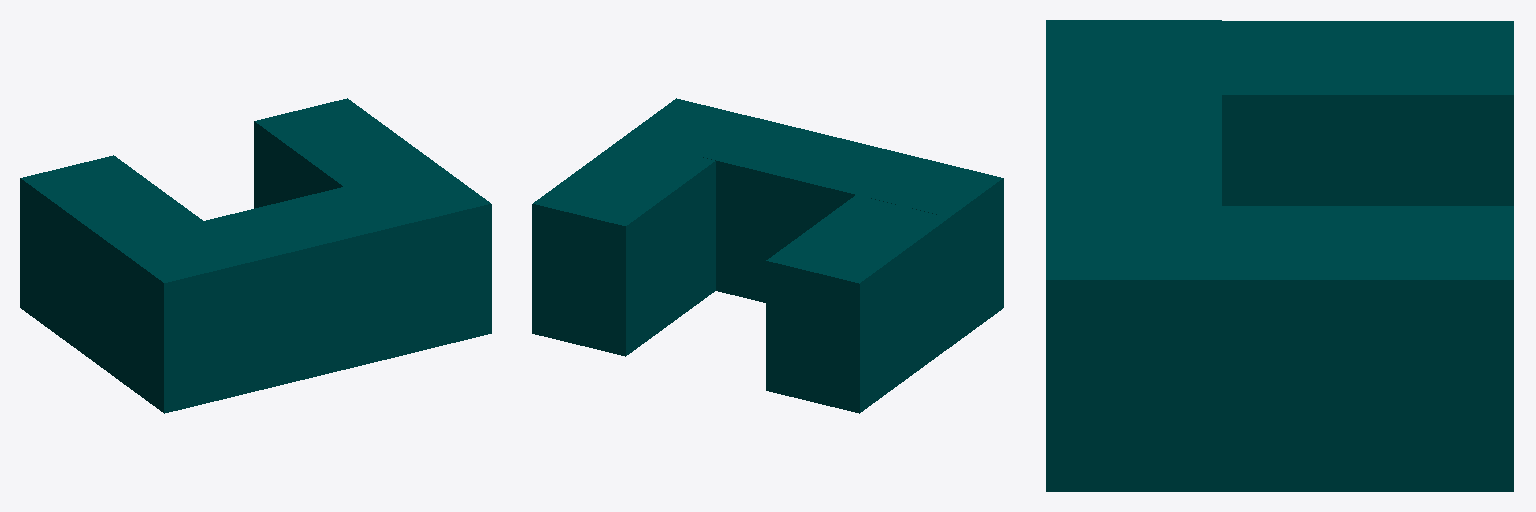
The robot description file, URDF, robot "ell.urdf":
<?xml version="0.0" ?>
<robot name="ell.urdf">
  <link name="baseLink">
    <contact>
      <lateral_friction value="0.3"/>
      <rolling_friction value="0.0001"/>
      <inertia_scaling value="3.0"/>
    </contact>
    <inertial>
      <origin rpy="0 0 0" xyz="0 0 0"/>
       <mass value=".1"/>
       <inertia ixx="1" ixy="0" ixz="0" iyy="1" iyz="0" izz="1"/>
    </inertial>

    <visual>
      <origin rpy="0 0 0" xyz="0.025 0 0"/>
      <geometry>
        <box size=".08 .03 .04"/>
      </geometry>
      <material name="red">
        <color rgba="0. 0.3412 0.3490 1"/>
      </material>
    </visual>
    <collision>
      <origin rpy="0 0 0" xyz="0.025 0 0"/>
      <geometry>
        <box size=".08 .03 .04"/>
      </geometry>
    </collision>

    <visual>
      <origin rpy="0 0 0" xyz="0 0.025 0"/>
      <geometry>
        <box size=".03 .08 .0399"/>
      </geometry>
      <material name="dark">
        <color rgba="0. 0.3412 0.3490 1"/>
      </material>
    </visual>
    <collision>
      <origin rpy="0 0 0" xyz="0 0.025 0"/>
      <geometry>
        <box size=".03 .08 .0399"/>
      </geometry>
    </collision>


    <visual>
      <origin rpy="0 0 0" xyz="0.075 0.025 0"/>
      <geometry>
        <box size=".03 .08 .0399"/>
      </geometry>
      <material name="dark">
        <color rgba="0. 0.3412 0.3490 1"/>
      </material>
    </visual>
    <collision>
      <origin rpy="0 0 0" xyz="0.075 0.025 0"/>
      <geometry>
        <box size=".03 .08 .0399"/>
      </geometry>
    </collision>


  </link>
</robot>

--- What the picture shows (computed from the rendered views, not written in the file) ---
Views: 3 orthographic renders of the robot side by side, from view 1: azimuth 30°, elevation 25°; view 2: azimuth 150°, elevation 25°; view 3: azimuth 270°, elevation 25°.
Model ell.urdf with 1 links and 0 joints (none), rooted at baseLink, posed all joints at 0.
Links seen in each view (by area): view 1: baseLink; view 2: baseLink; view 3: baseLink.
Link boxes in pixels (x1,y1,x2,y2): baseLink: (20, 98, 491, 413); baseLink: (532, 98, 1003, 413); baseLink: (1046, 20, 1513, 491).
Bounding box of the posed robot: 0.105 × 0.08 × 0.04 m (x, y, z).
Geometry: primitives only (box / cylinder / sphere), no mesh files.